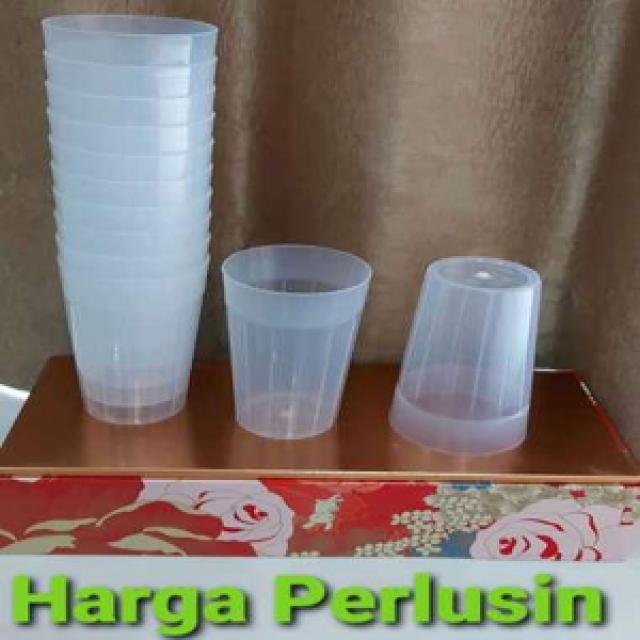plastic cup: (34, 9, 224, 433), (215, 239, 378, 448), (384, 254, 548, 461)
